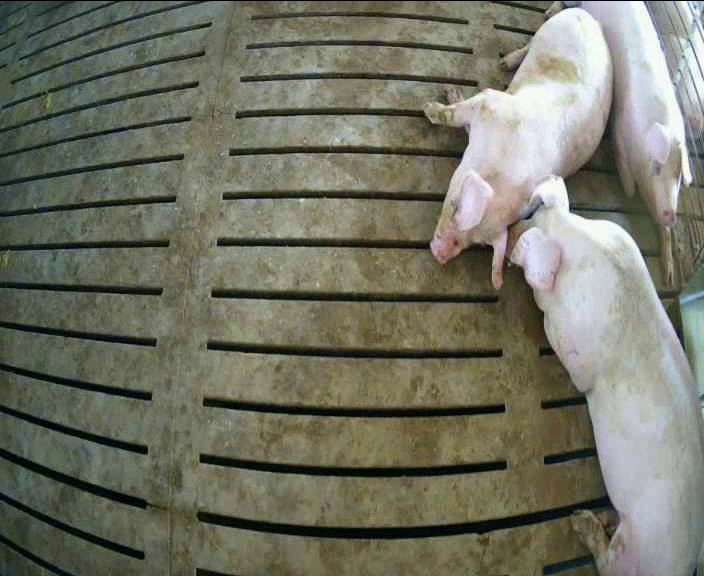pig: (510, 177, 703, 573), (424, 8, 611, 287)
